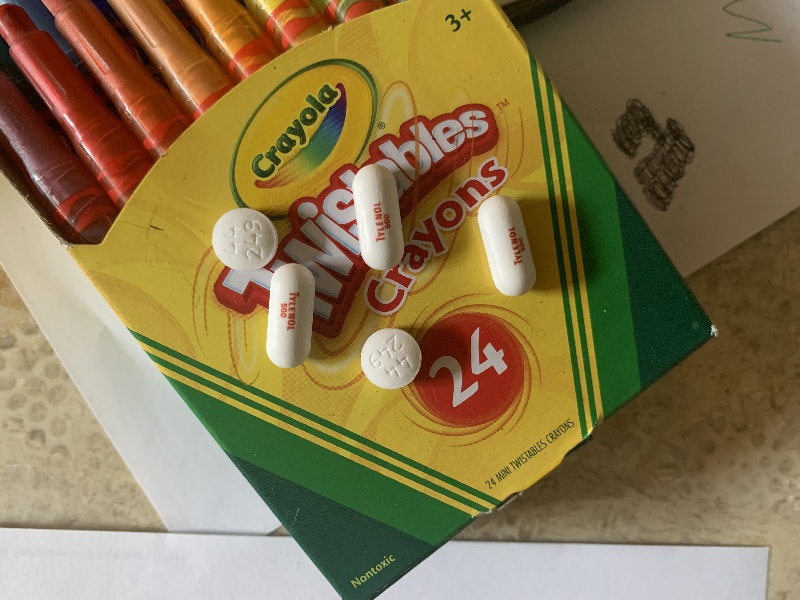Aspirin: (206, 206, 281, 272), (355, 324, 424, 392)
Tylenol: (345, 161, 413, 273), (475, 192, 544, 301), (259, 262, 324, 372)
